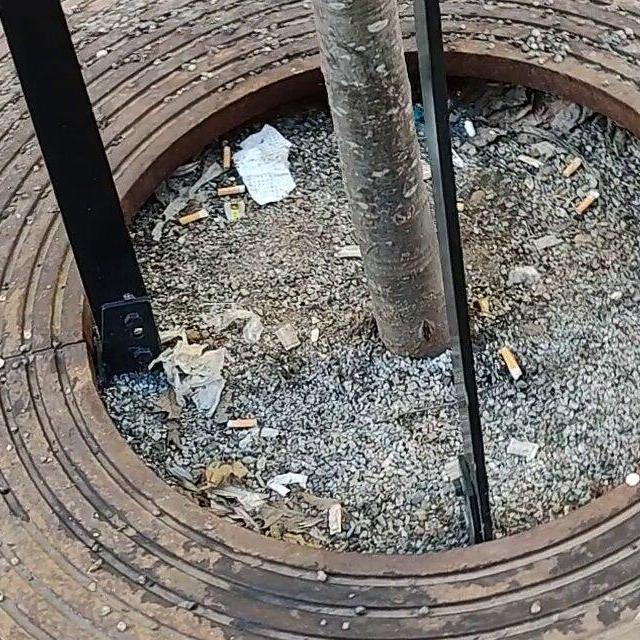Cigarette Butt: (493, 344, 525, 389), (328, 496, 349, 544), (228, 410, 264, 431), (179, 210, 215, 230), (576, 188, 598, 220), (565, 155, 580, 181), (218, 182, 249, 194), (222, 143, 233, 168), (478, 300, 497, 311)
